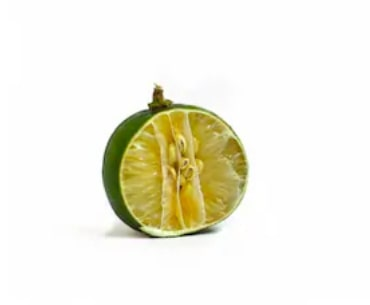damaged_lime: (103, 102, 247, 238)
